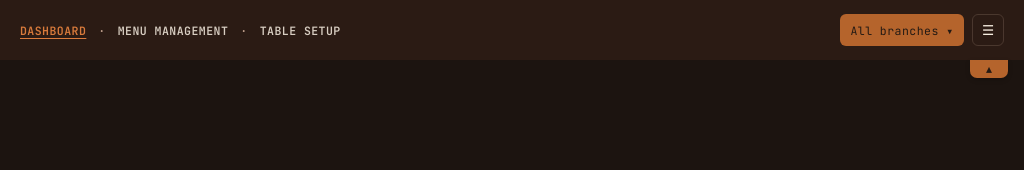
StaffBar branch picker › selecting a branch closes the popover, persists it, and replaces the URL on a branch-aware page
Step 1. Click the button "All branches ▾" → click(902, 30), box x1=840 y1=14 x2=964 y2=46
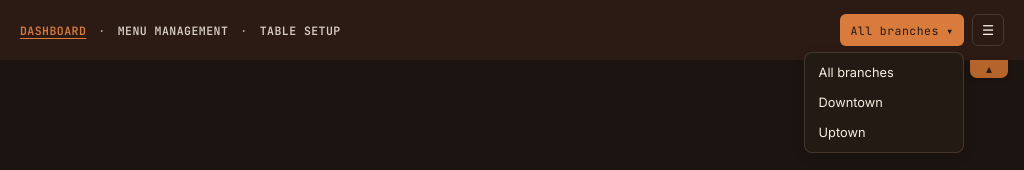
Step 2. Click the button "Uptown" → click(884, 132), box x1=811 y1=118 x2=957 y2=146
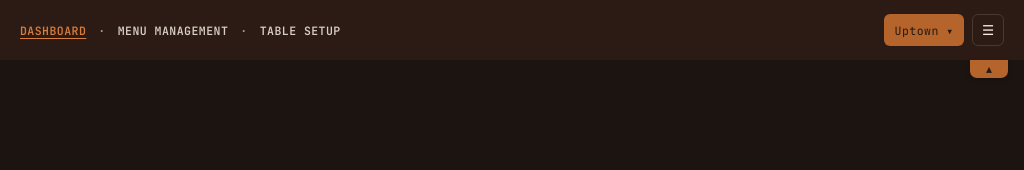
Now the list is gone
Now the button "Uptown ▾" is shown, box x1=884 y1=14 x2=964 y2=46
